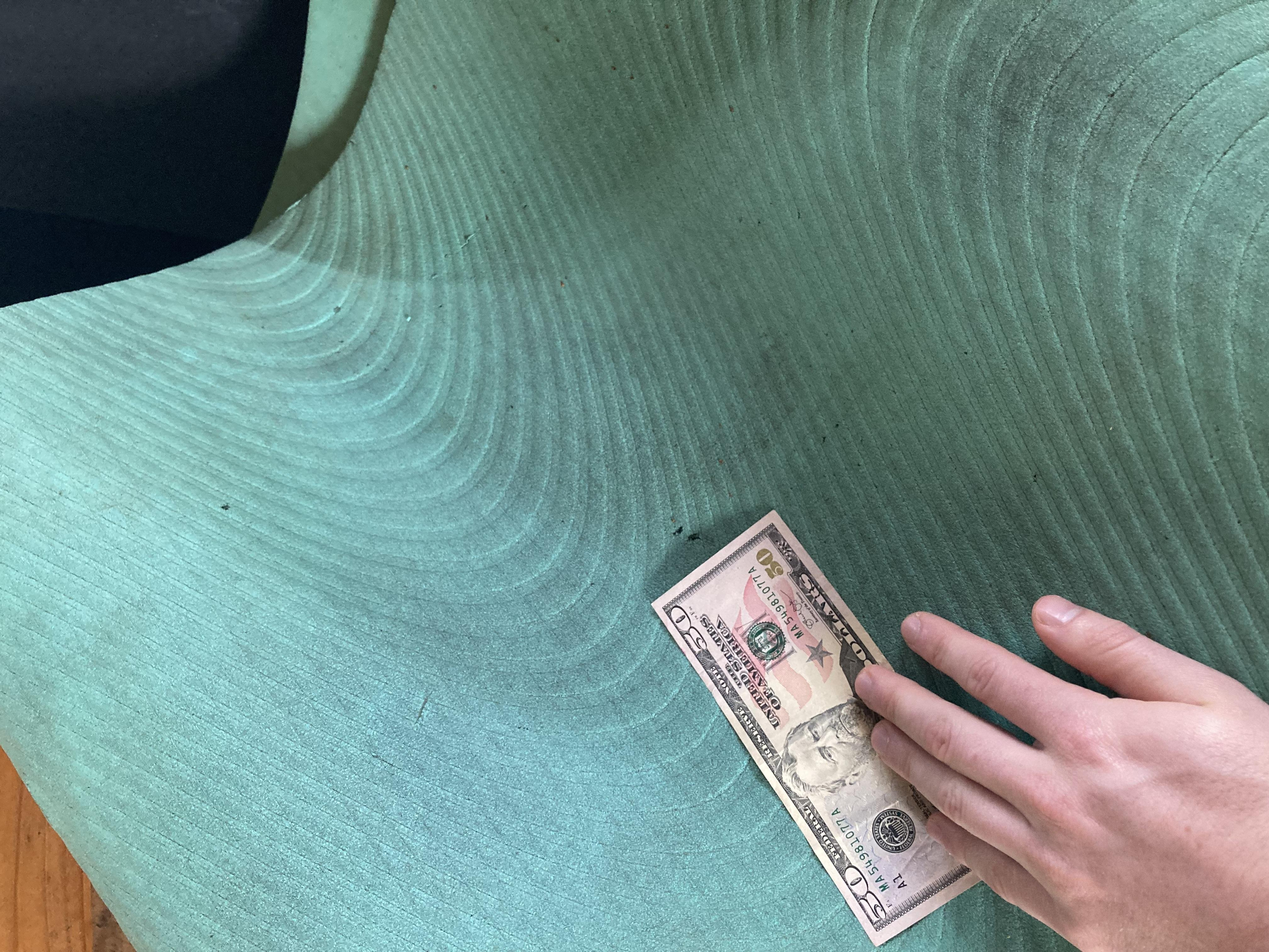fifty-front: (7, 488, 595, 770)
